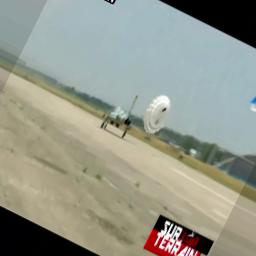Airplane: (97, 98, 142, 139)
